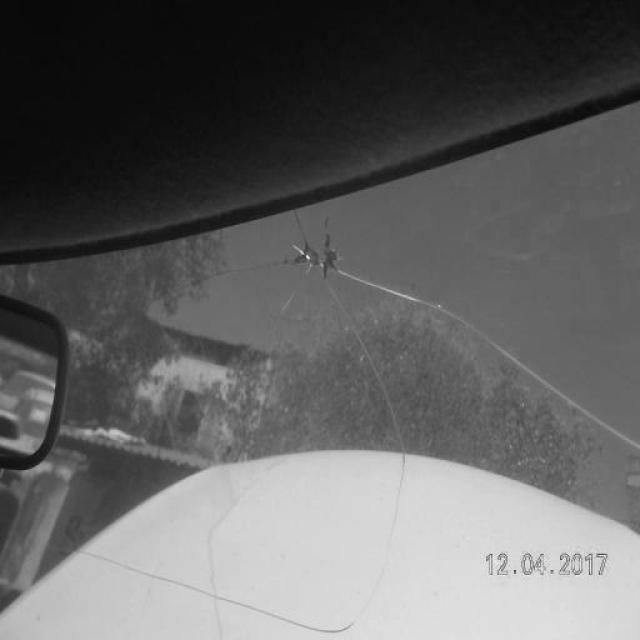car damage: (289, 222, 356, 298)
